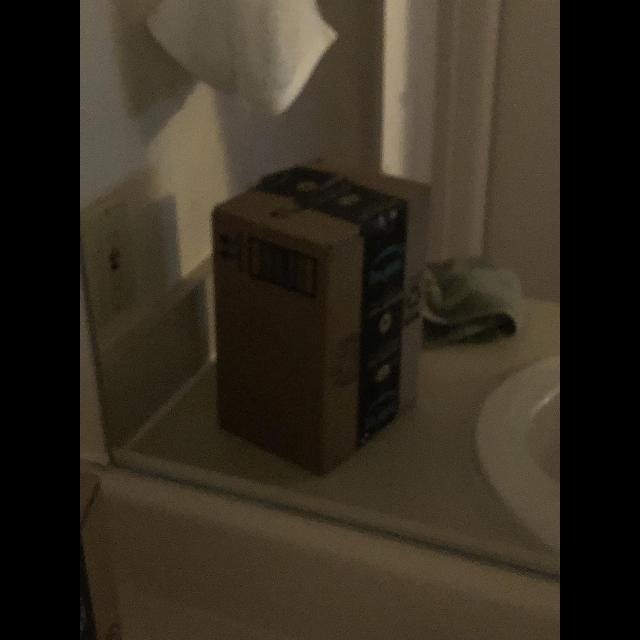box: (210, 162, 424, 478)
